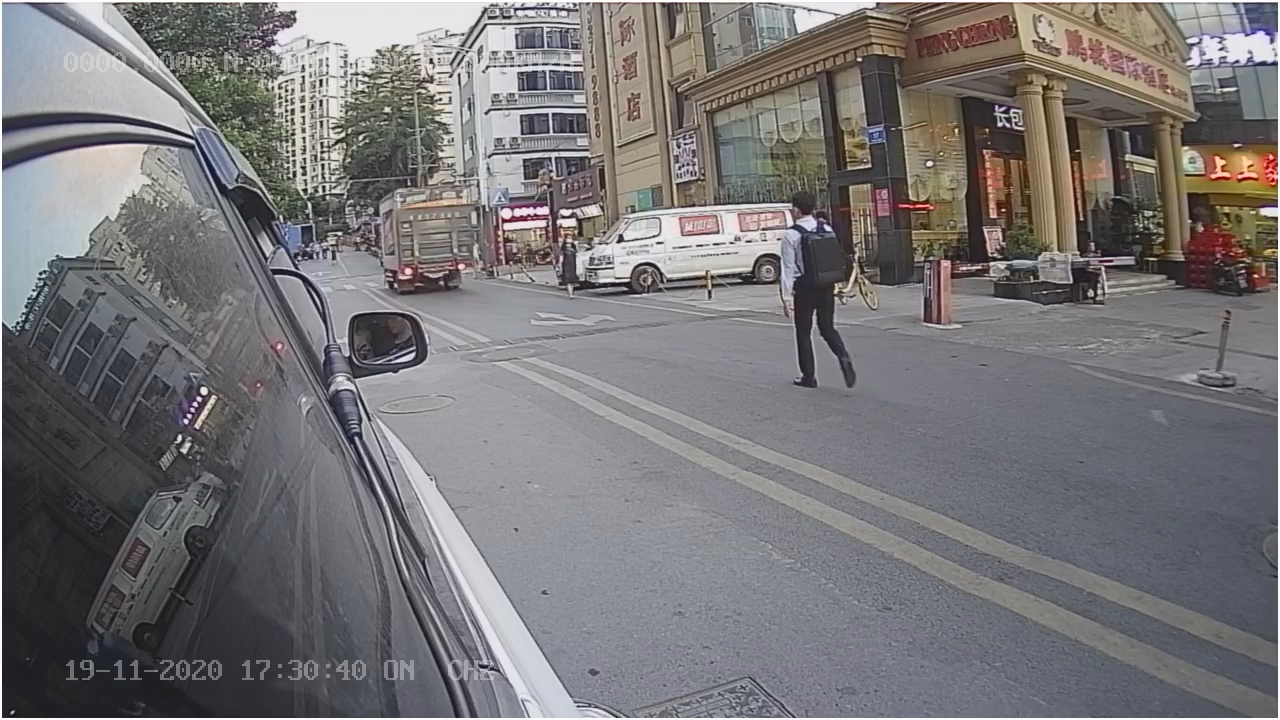person: (774, 190, 854, 386)
